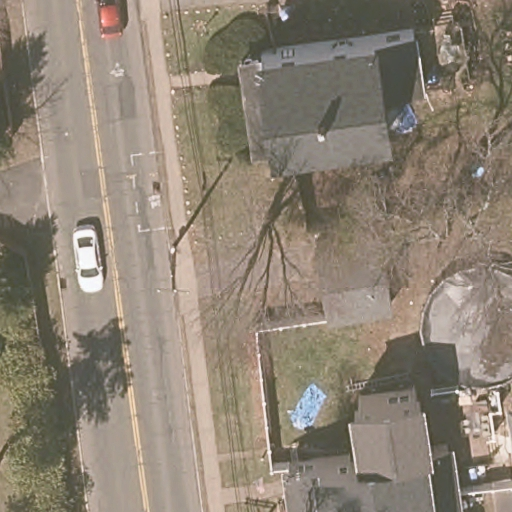DT: (154, 244, 189, 297)
